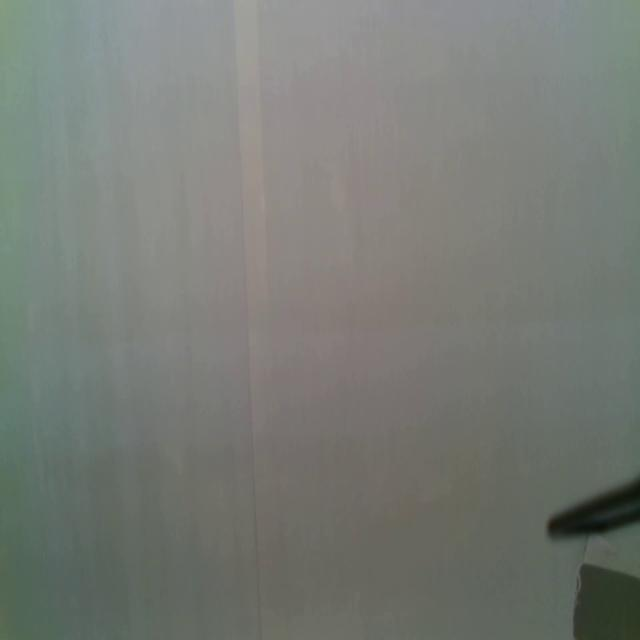crease: (232, 0, 282, 640)
hole: (570, 560, 640, 640)
